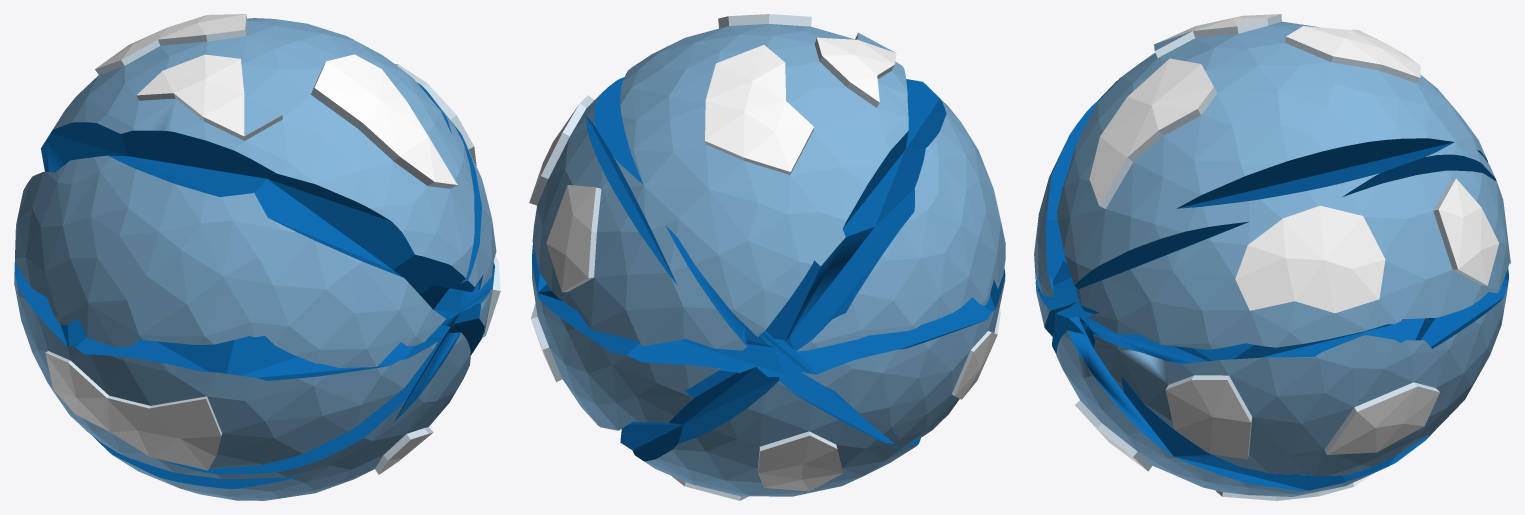
Rendered from Planet10.glb.
3 renders of one model, left to right at view 1: azimuth 30°, elevation 25°; view 2: azimuth 150°, elevation 25°; view 3: azimuth 270°, elevation 25°, orthographic.
Visible parts, largest first — view 1: Planet_10; view 2: Planet_10; view 3: Planet_10.
Boxes of the visible parts, x1,y1,x2,y2 form: Planet_10: [14, 14, 500, 500]; Planet_10: [529, 14, 1005, 500]; Planet_10: [1034, 14, 1510, 500].
Bounding box in the file's own units: 2.58 × 2.62 × 2.57.
